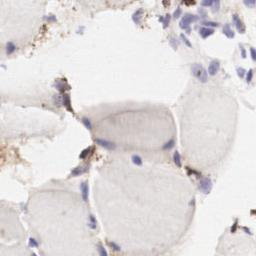nucleus: (180, 13, 197, 31), (192, 63, 208, 82), (198, 177, 213, 194), (195, 27, 216, 39), (207, 58, 221, 75), (179, 31, 192, 49), (221, 25, 236, 40), (95, 138, 115, 149), (167, 34, 180, 50), (69, 167, 89, 177), (5, 40, 16, 58), (132, 9, 143, 27), (81, 183, 89, 203), (131, 153, 142, 167), (172, 150, 181, 167), (162, 140, 176, 150), (27, 238, 39, 249), (233, 66, 245, 77), (162, 14, 170, 30), (239, 43, 247, 58), (83, 116, 91, 130), (244, 1, 256, 10), (212, 1, 221, 13), (242, 227, 253, 236), (110, 240, 120, 249), (55, 96, 64, 106), (98, 245, 106, 256), (173, 6, 181, 17), (233, 14, 240, 26), (250, 46, 256, 60), (203, 20, 217, 26), (52, 81, 62, 89), (247, 69, 252, 84), (86, 224, 98, 229), (44, 15, 56, 20), (199, 8, 205, 18), (200, 1, 211, 6), (90, 216, 98, 222), (238, 25, 242, 35), (1, 65, 7, 70)
positive_cell: (50, 94, 74, 113), (50, 76, 74, 92), (103, 238, 125, 254), (80, 145, 92, 160), (185, 166, 199, 178), (238, 20, 246, 34), (232, 215, 238, 233)
